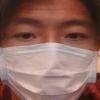mask: (1, 43, 100, 100)
